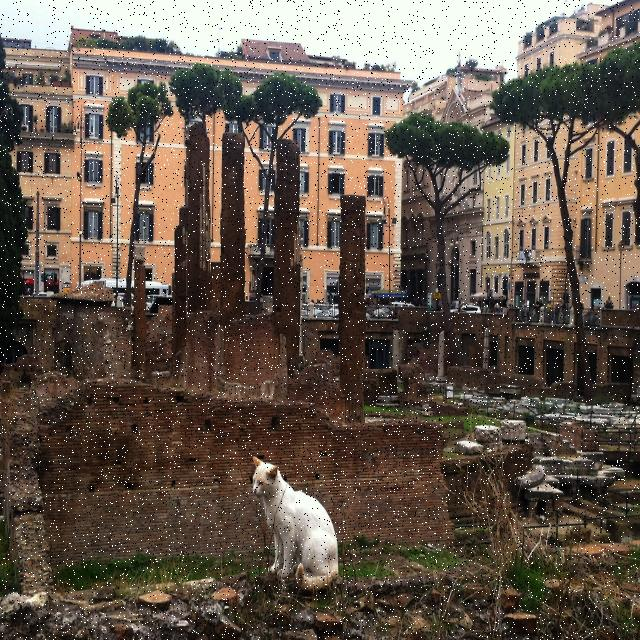cat: (252, 457, 339, 591)
